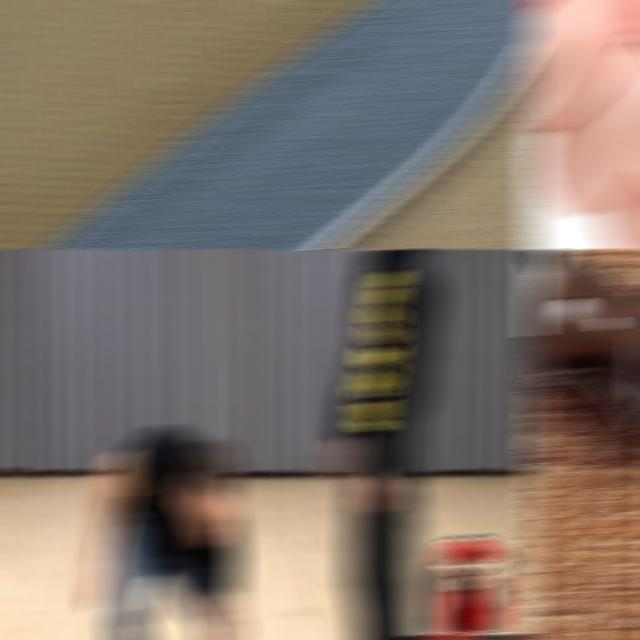Knife_Handle: (83, 557, 114, 639)
